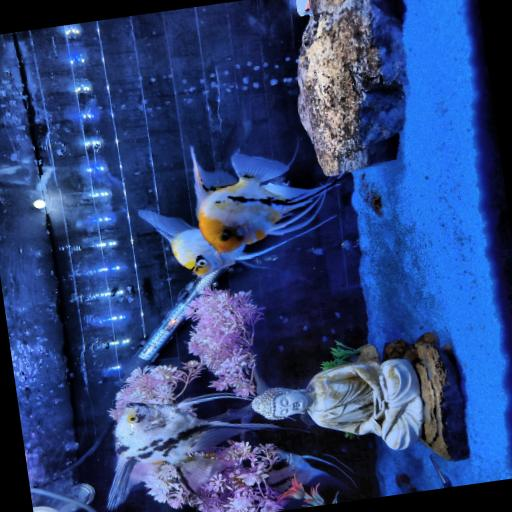Fish: (108, 393, 278, 509), (191, 149, 337, 254), (139, 211, 331, 276), (267, 451, 353, 492)
